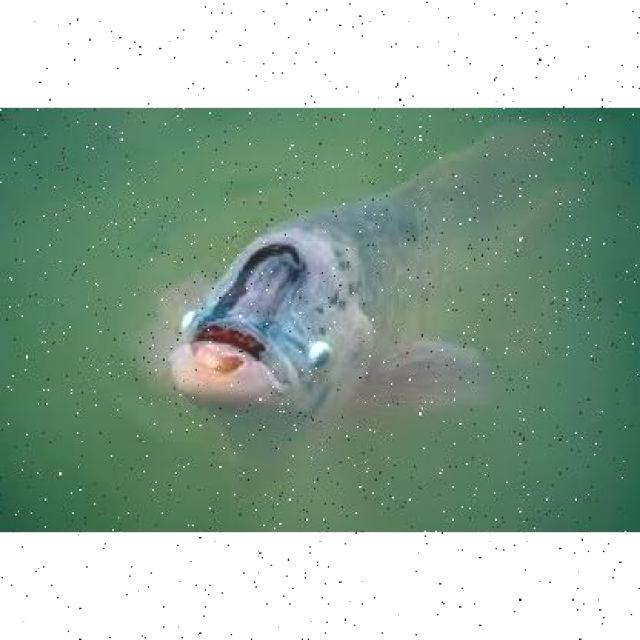gurame: (165, 124, 578, 470)
